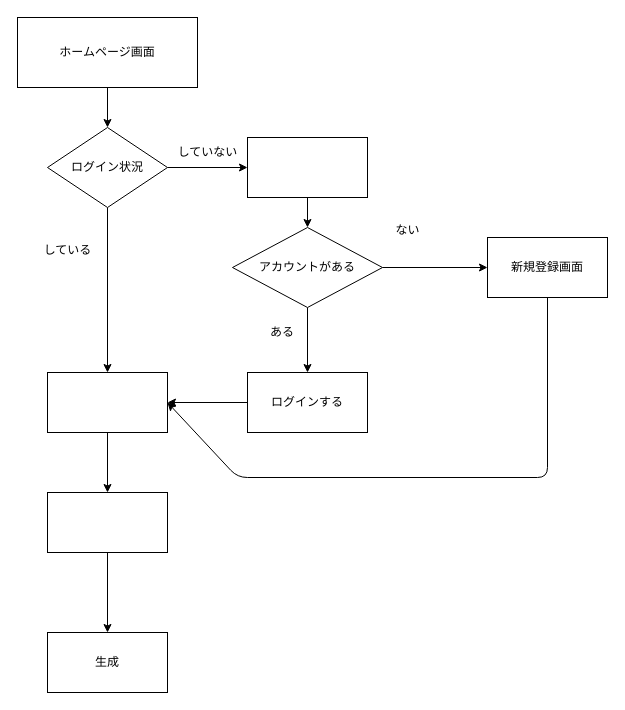
The diagram is 625 pixels wide and 710 high, and some of its shapes have lost their labels. Here are the shapes that lost their labels. From the top down, the centre of each, then its label:
the point at 307,167: ログイン画面
the point at 107,402: mypage画面
the point at 107,522: おつまみ生成画面
